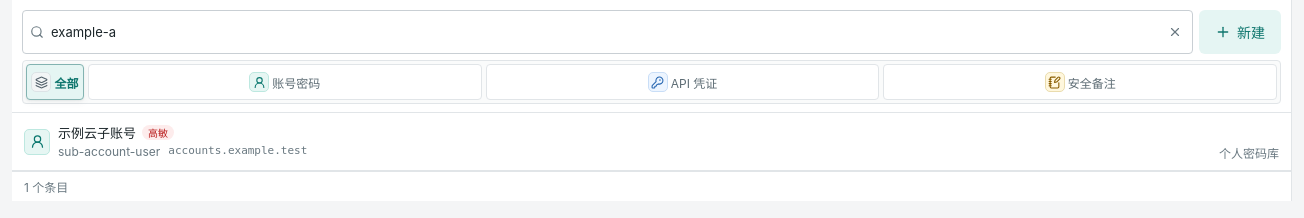
Test: ItemList encrypted metadata search › searches the full login URL and only badges high sensitivity
Check: the option "示例云子账号 高敏 sub-account-user accounts.example.test 个人密码库" is shown, box [12,113,1291,171]
Check: the button "账号密码" is shown, box [88,64,482,100]
Click the button named "清空搜索" at (1175, 32), box [1161,18,1189,46]
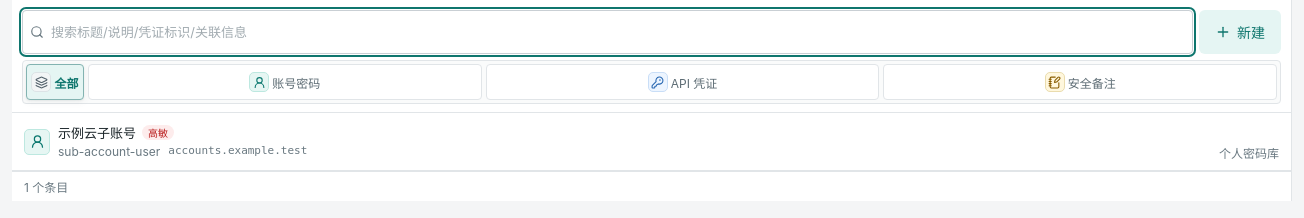
Check: the text "高敏" is shown, box [142,124,174,140]
Check: the field named "搜索条目" is empty, box [22,10,1193,54]
Check: the button "清空搜索" is gone
